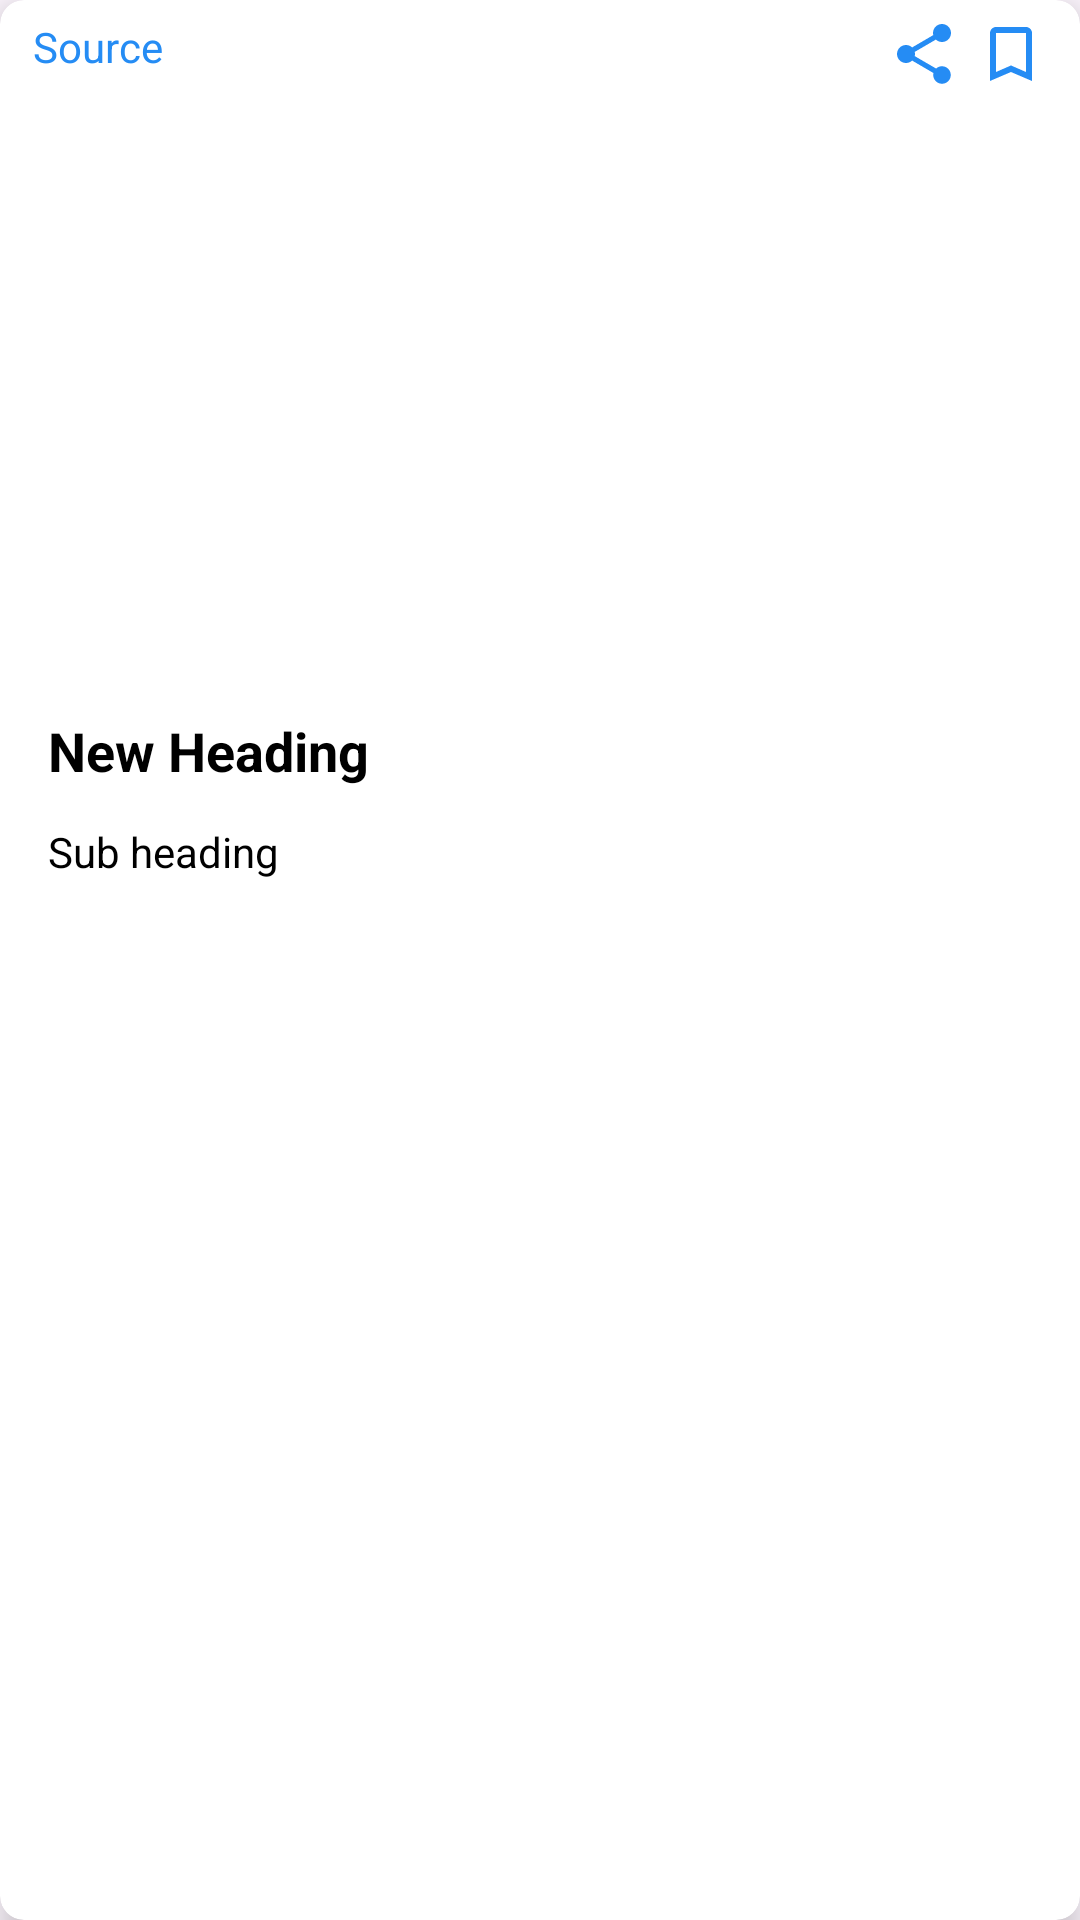

Icon click points for this 1080 × 1920 phone screenshot, format (x,y):
bookmark border: (1011,54)
share: (924,54)
